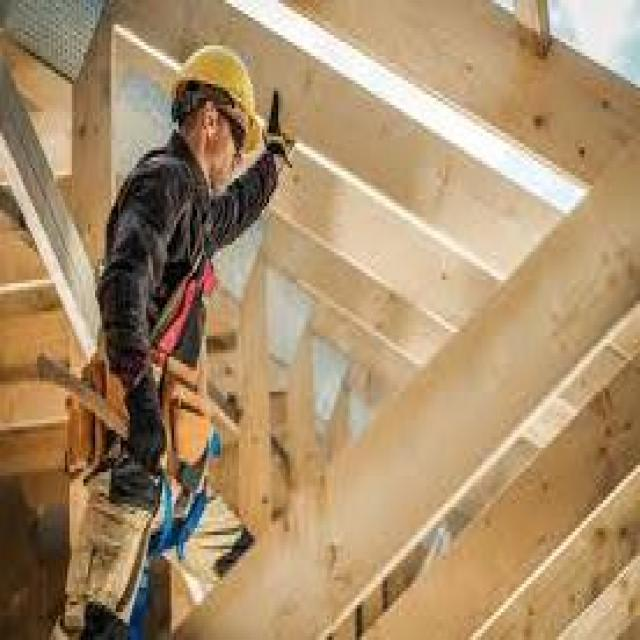Reflective-Jacket: (90, 154, 244, 395)
Safety-Helmet: (162, 35, 272, 147)
